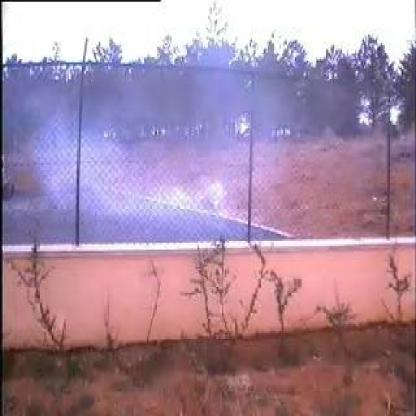-: (79, 64, 256, 245)
